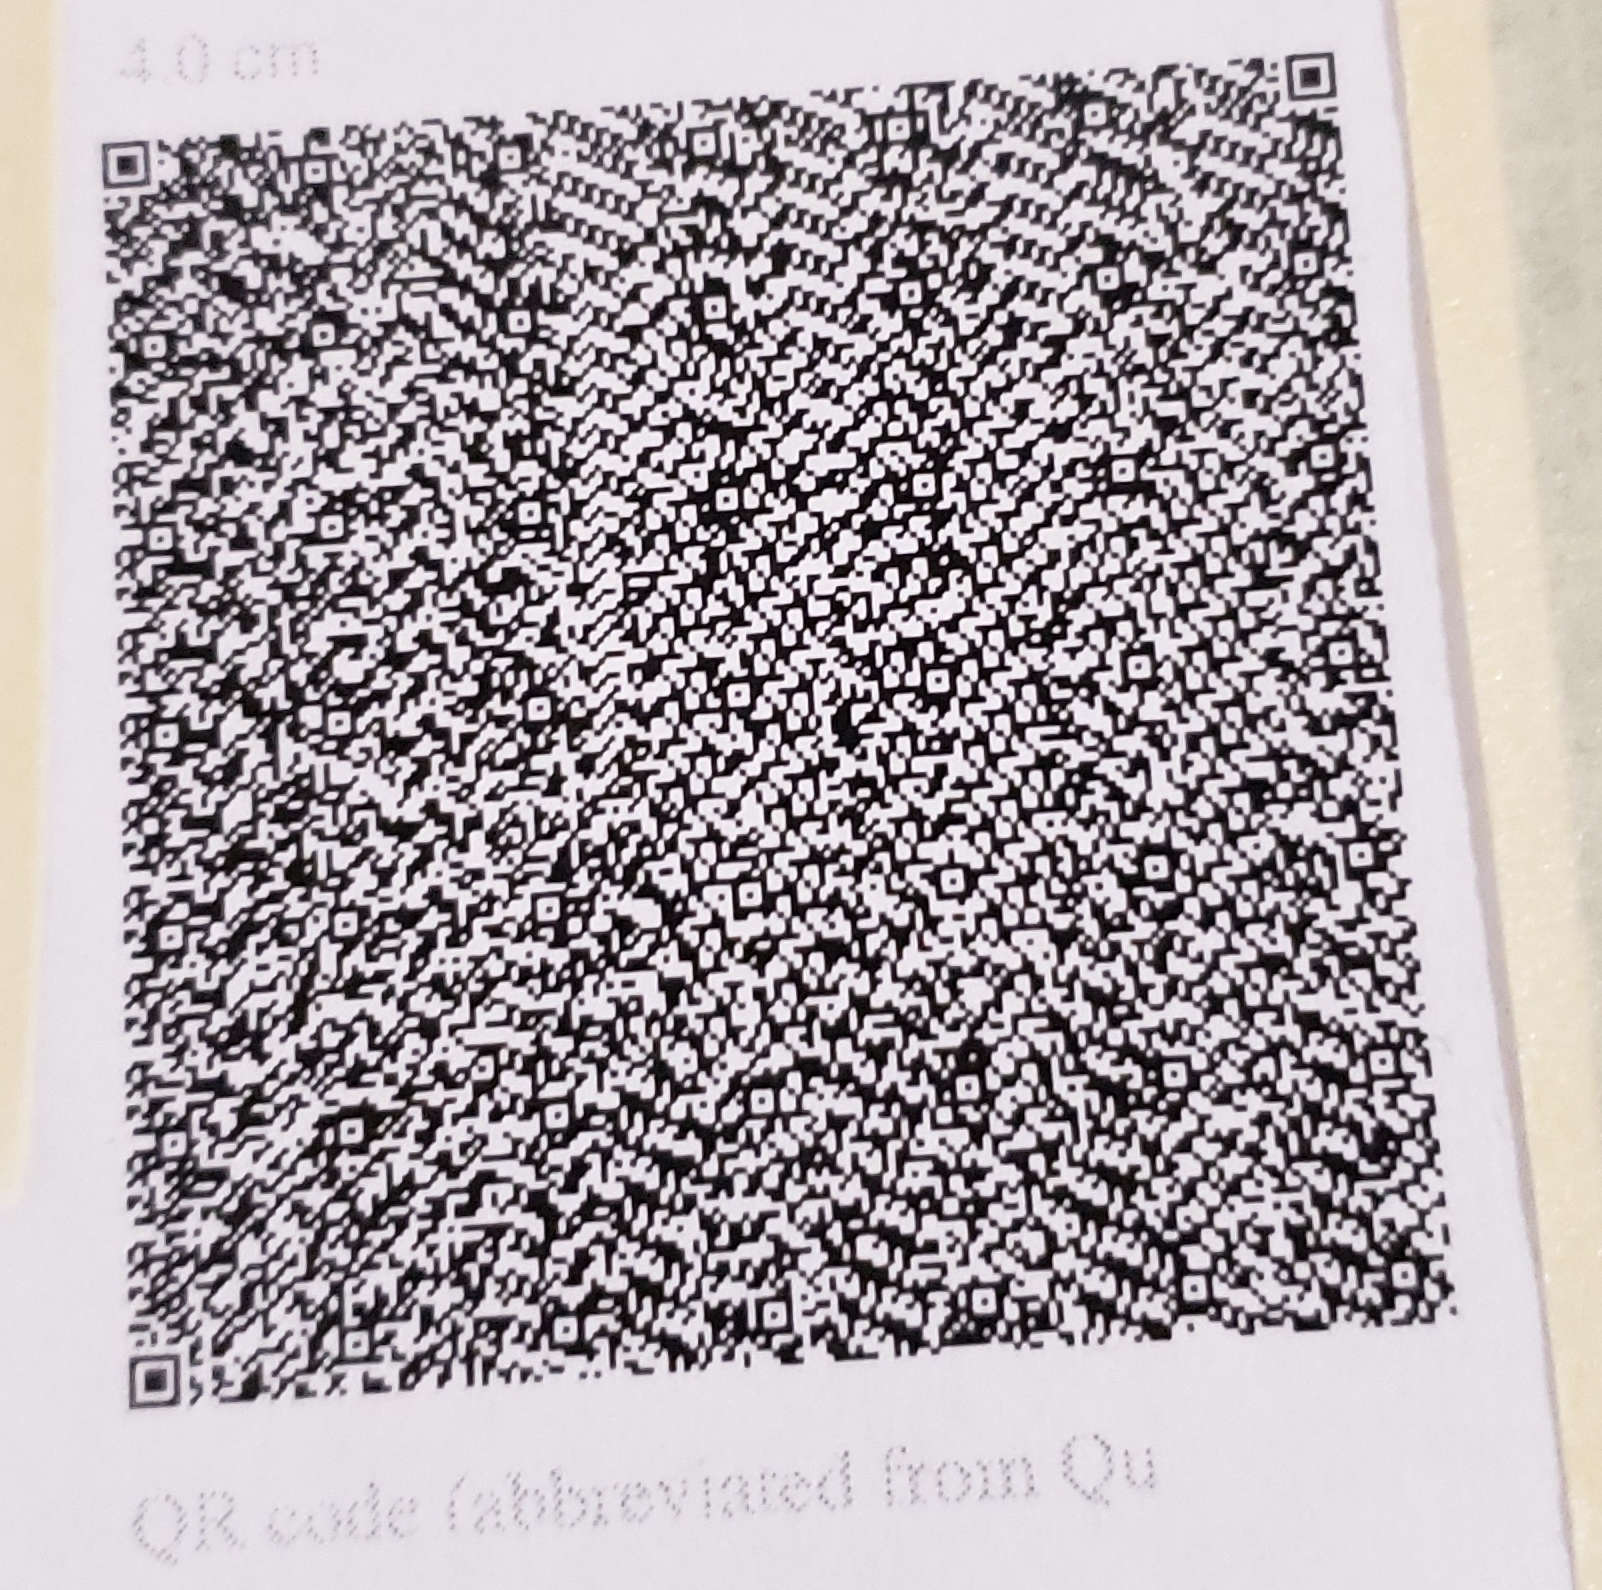QR_CODE: (52, 20, 1499, 1439)
